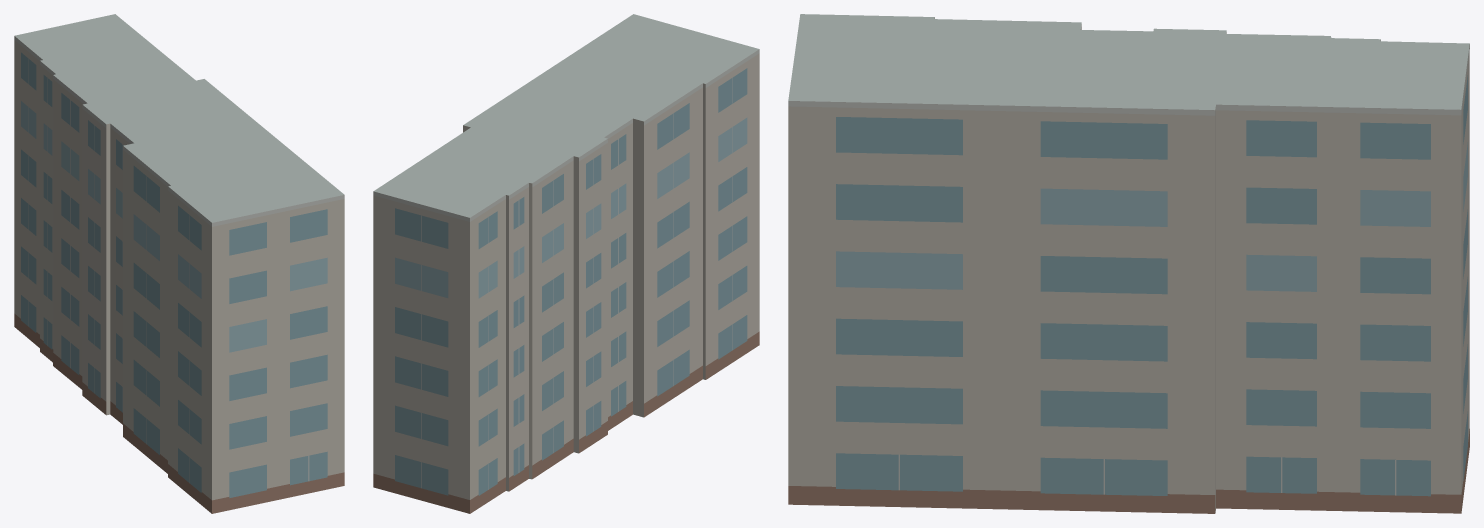
The model's file is survey-upis-32989089.glb.
The picture shows the model from 3 angles, left to right: view 1: azimuth 30°, elevation 25°; view 2: azimuth 150°, elevation 25°; view 3: azimuth 270°, elevation 25°; orthographic projection. The views are drawn at different scales.
Visible parts, largest first — view 1: survey-upis-32989089.tmp; view 2: survey-upis-32989089.tmp; view 3: survey-upis-32989089.tmp.
Boxes of the visible parts, x1,y1,x2,y2 form: survey-upis-32989089.tmp: (14,14,344,513); survey-upis-32989089.tmp: (373,14,759,513); survey-upis-32989089.tmp: (788,14,1469,513).
Size of the model in its own units: 9.07 by 17.75 by 27.16.
